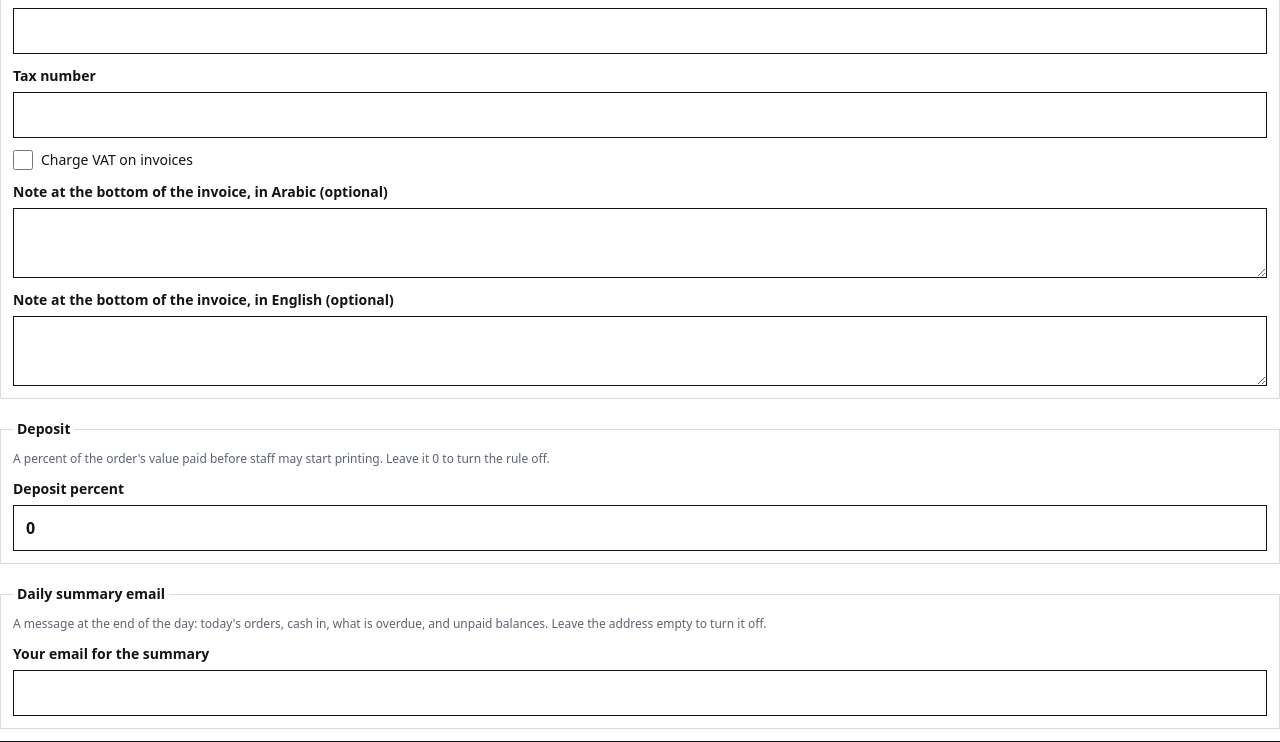
the shop settings screen › only shows the threshold field once a deposit percent is set
(page scrolled)
Check: the field labelled "Only required for orders" is not shown
Type "30" into the field labelled "Deposit percent".
click(640, 528); type("30")  # box [13,505,1267,551]
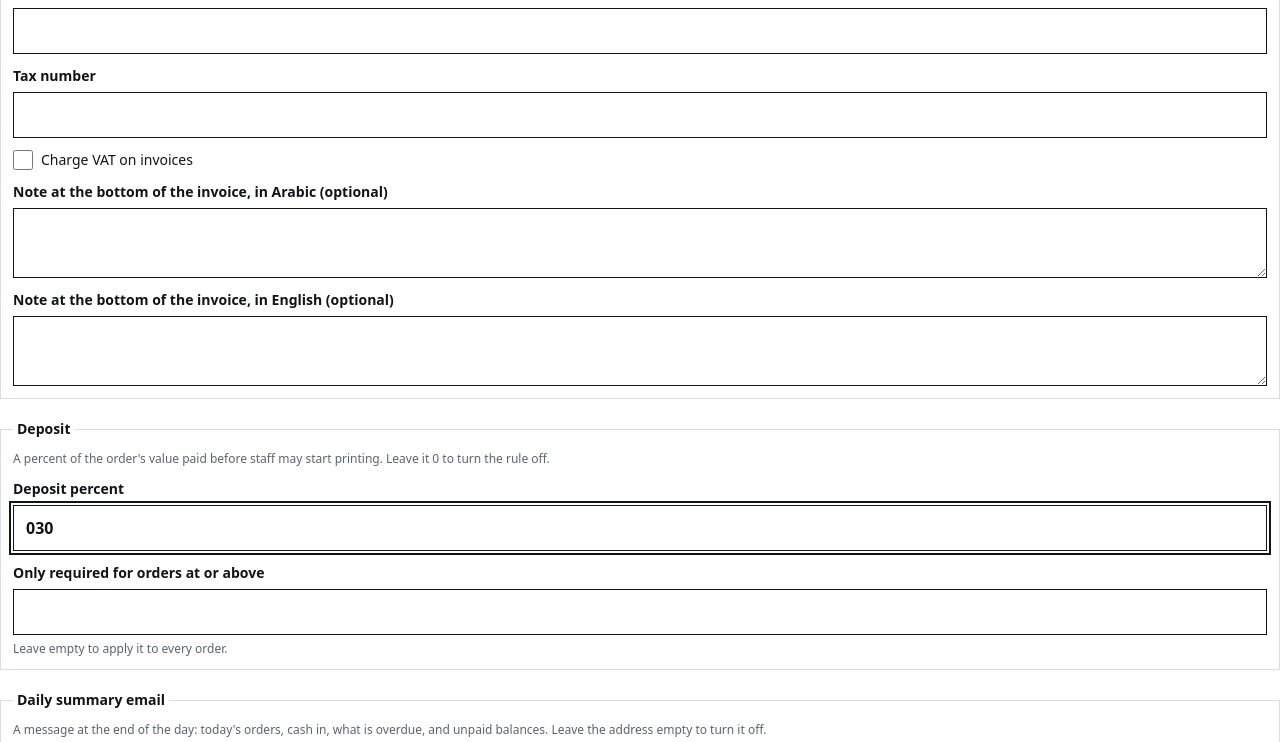
Check: the field labelled "Only required for orders" is shown, box [13,589,1267,635]
